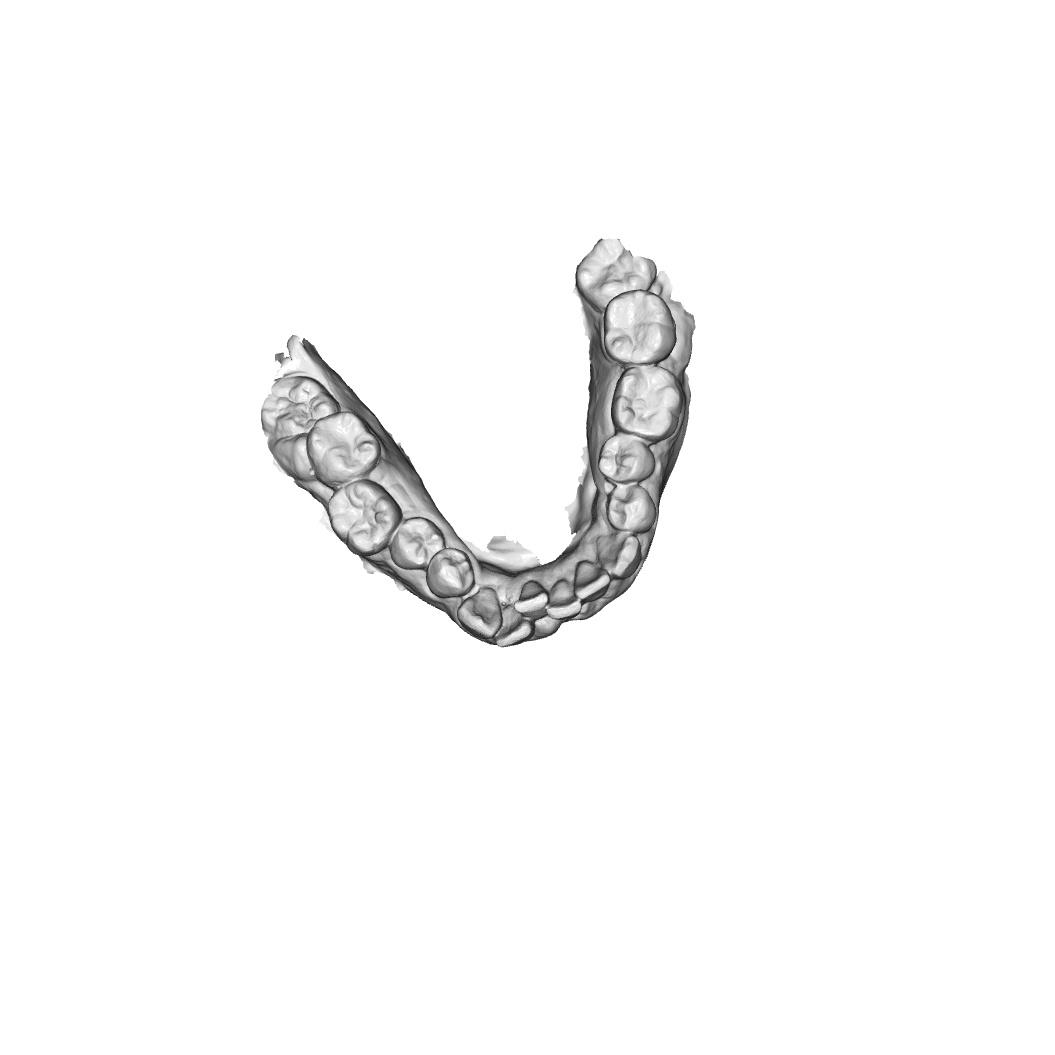canine: (456, 586, 503, 640), (595, 533, 642, 581)
incisor: (494, 603, 536, 649), (573, 559, 612, 603), (545, 578, 583, 621), (513, 578, 549, 619)
molar: (575, 237, 659, 316), (327, 477, 403, 557), (306, 411, 382, 490), (610, 364, 684, 445), (603, 289, 678, 366), (260, 375, 341, 439)
premolar: (389, 516, 446, 571), (597, 434, 657, 486), (604, 483, 657, 534), (425, 547, 475, 599)
